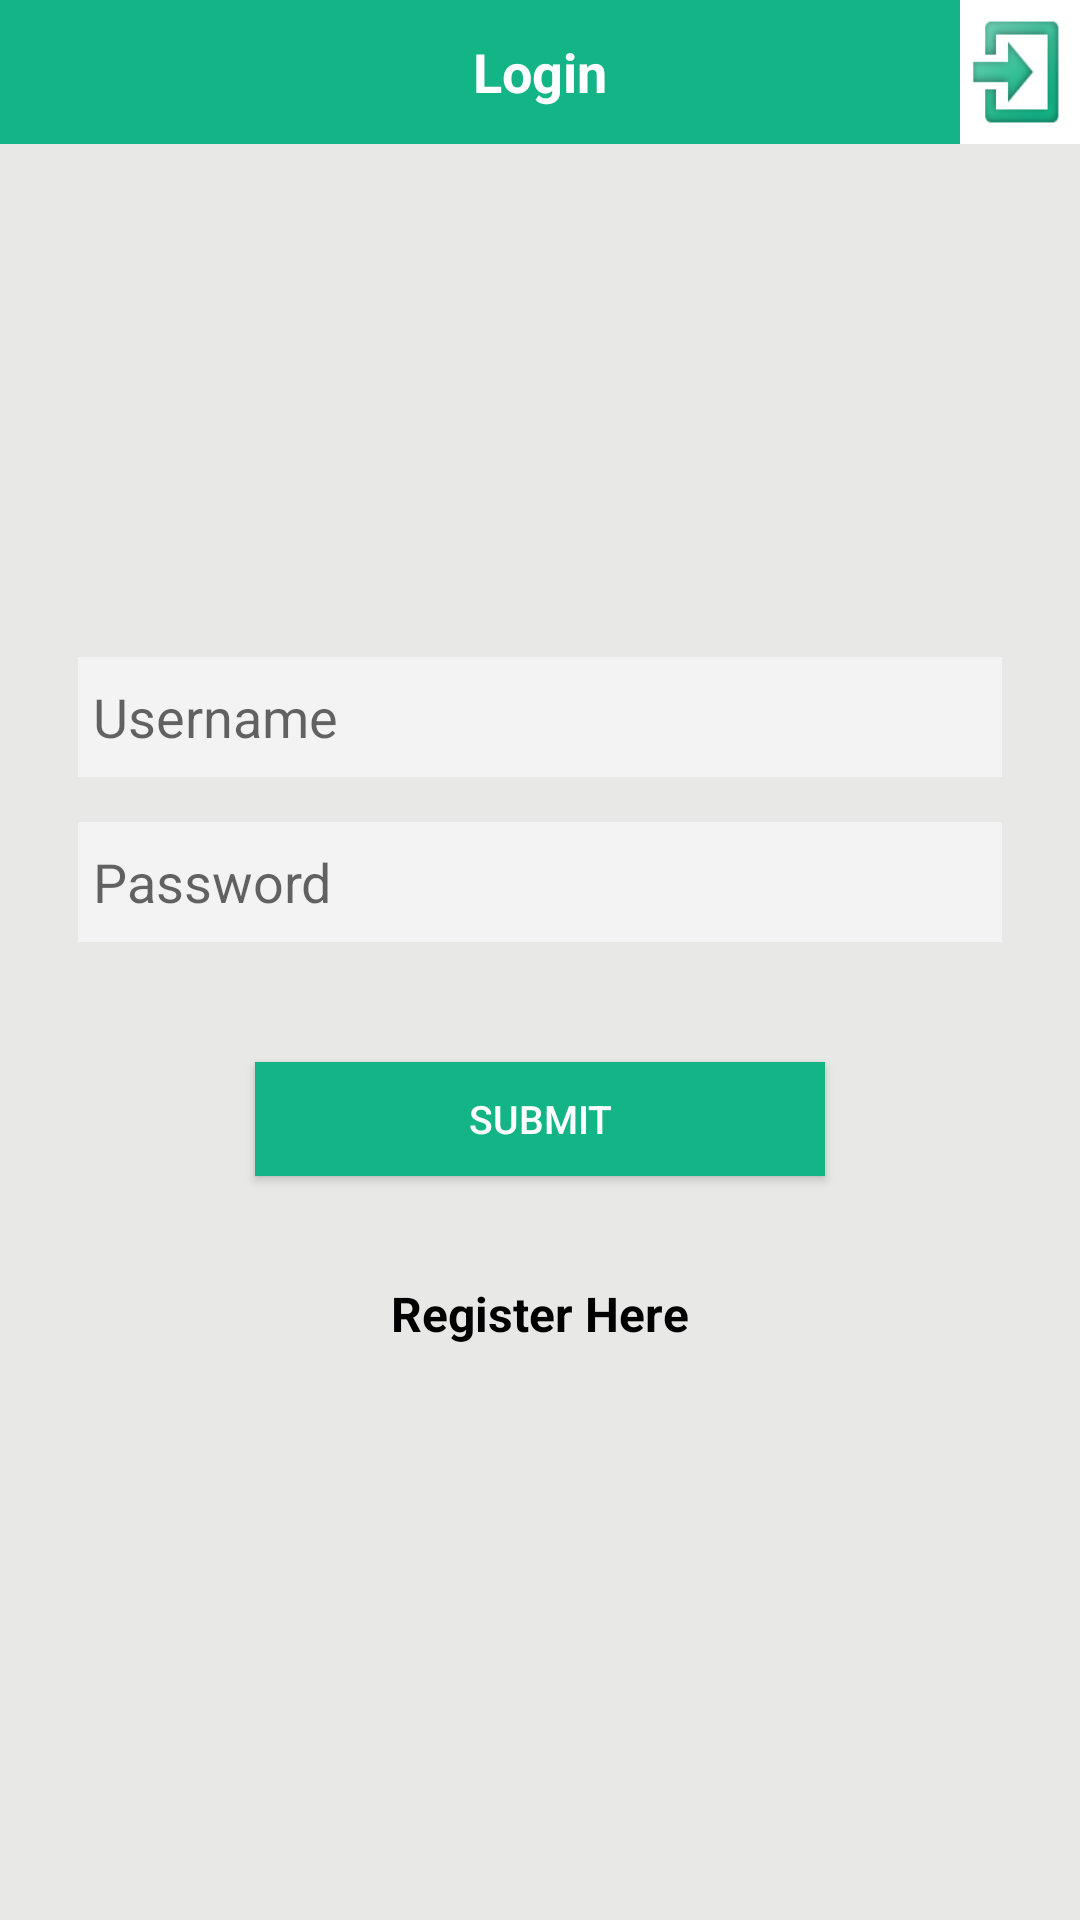

Where to tap for icons on this 1080 × 1920 app screen, as point (x, y):
login: point (1020, 72)
